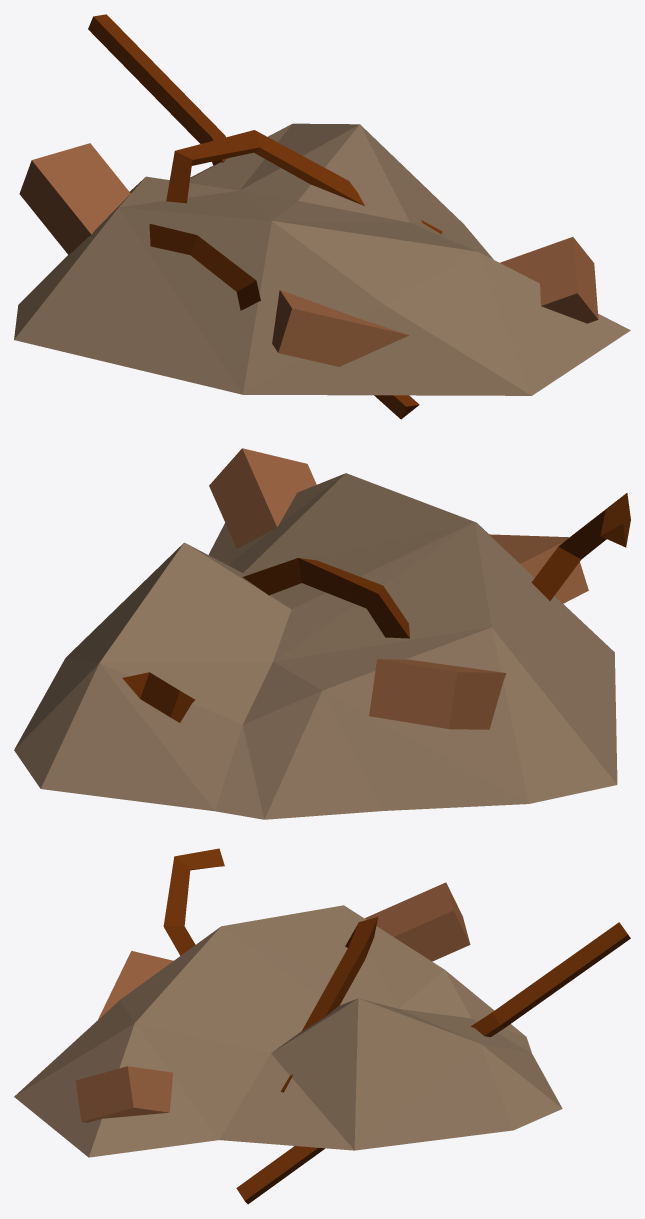
Rendered from LP_PostApoc_DebrisPileC.fbx.
3 views of the same model, one above another, from view 1: azimuth 30°, elevation 25°; view 2: azimuth 150°, elevation 25°; view 3: azimuth 270°, elevation 25° (orthographic). The views are drawn at different scales.
Parts seen in each view (by area): view 1: DebrisPileC; view 2: DebrisPileC; view 3: DebrisPileC.
Part boxes in pixels (box(x1,y1,x2,y2)): DebrisPileC: box(14, 14, 630, 419); DebrisPileC: box(14, 448, 630, 819); DebrisPileC: box(14, 848, 630, 1204).
Bounding box in the file's own units: 123 × 68.32 × 158.
